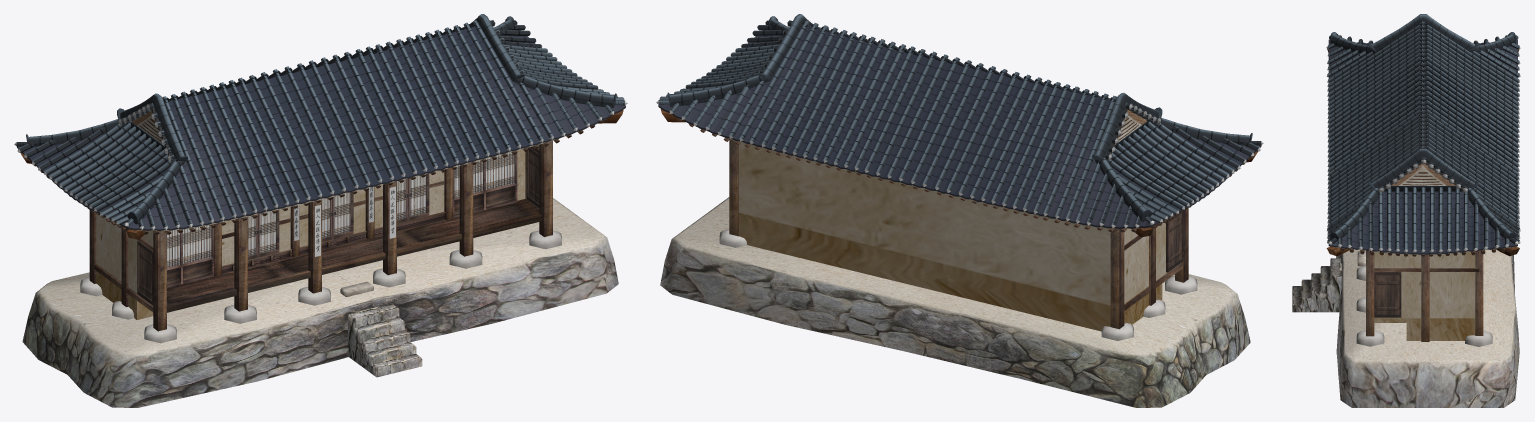
The model's file is koreahouse(Long).FBX.
3 views of the same model, side by side, from view 1: azimuth 30°, elevation 25°; view 2: azimuth 150°, elevation 25°; view 3: azimuth 270°, elevation 25° (orthographic). The views are drawn at different scales.
Parts seen in each view (by area): view 1: Plane001, Object001, Object018; view 2: Plane001, Object001, Object018; view 3: Plane001, Object001, Object018.
Part boxes in pixels (box(x1,y1,x2,y2)): Plane001: box(14, 14, 627, 239); Object001: box(22, 198, 618, 407); Object018: box(89, 140, 552, 331); Plane001: box(656, 14, 1263, 237); Object001: box(660, 197, 1250, 407); Object018: box(729, 139, 1188, 331); Plane001: box(1326, 14, 1520, 256); Object001: box(1292, 249, 1519, 407); Object018: box(1366, 250, 1483, 341).
Size of the model in its own units: 149 by 72 by 67.66.
